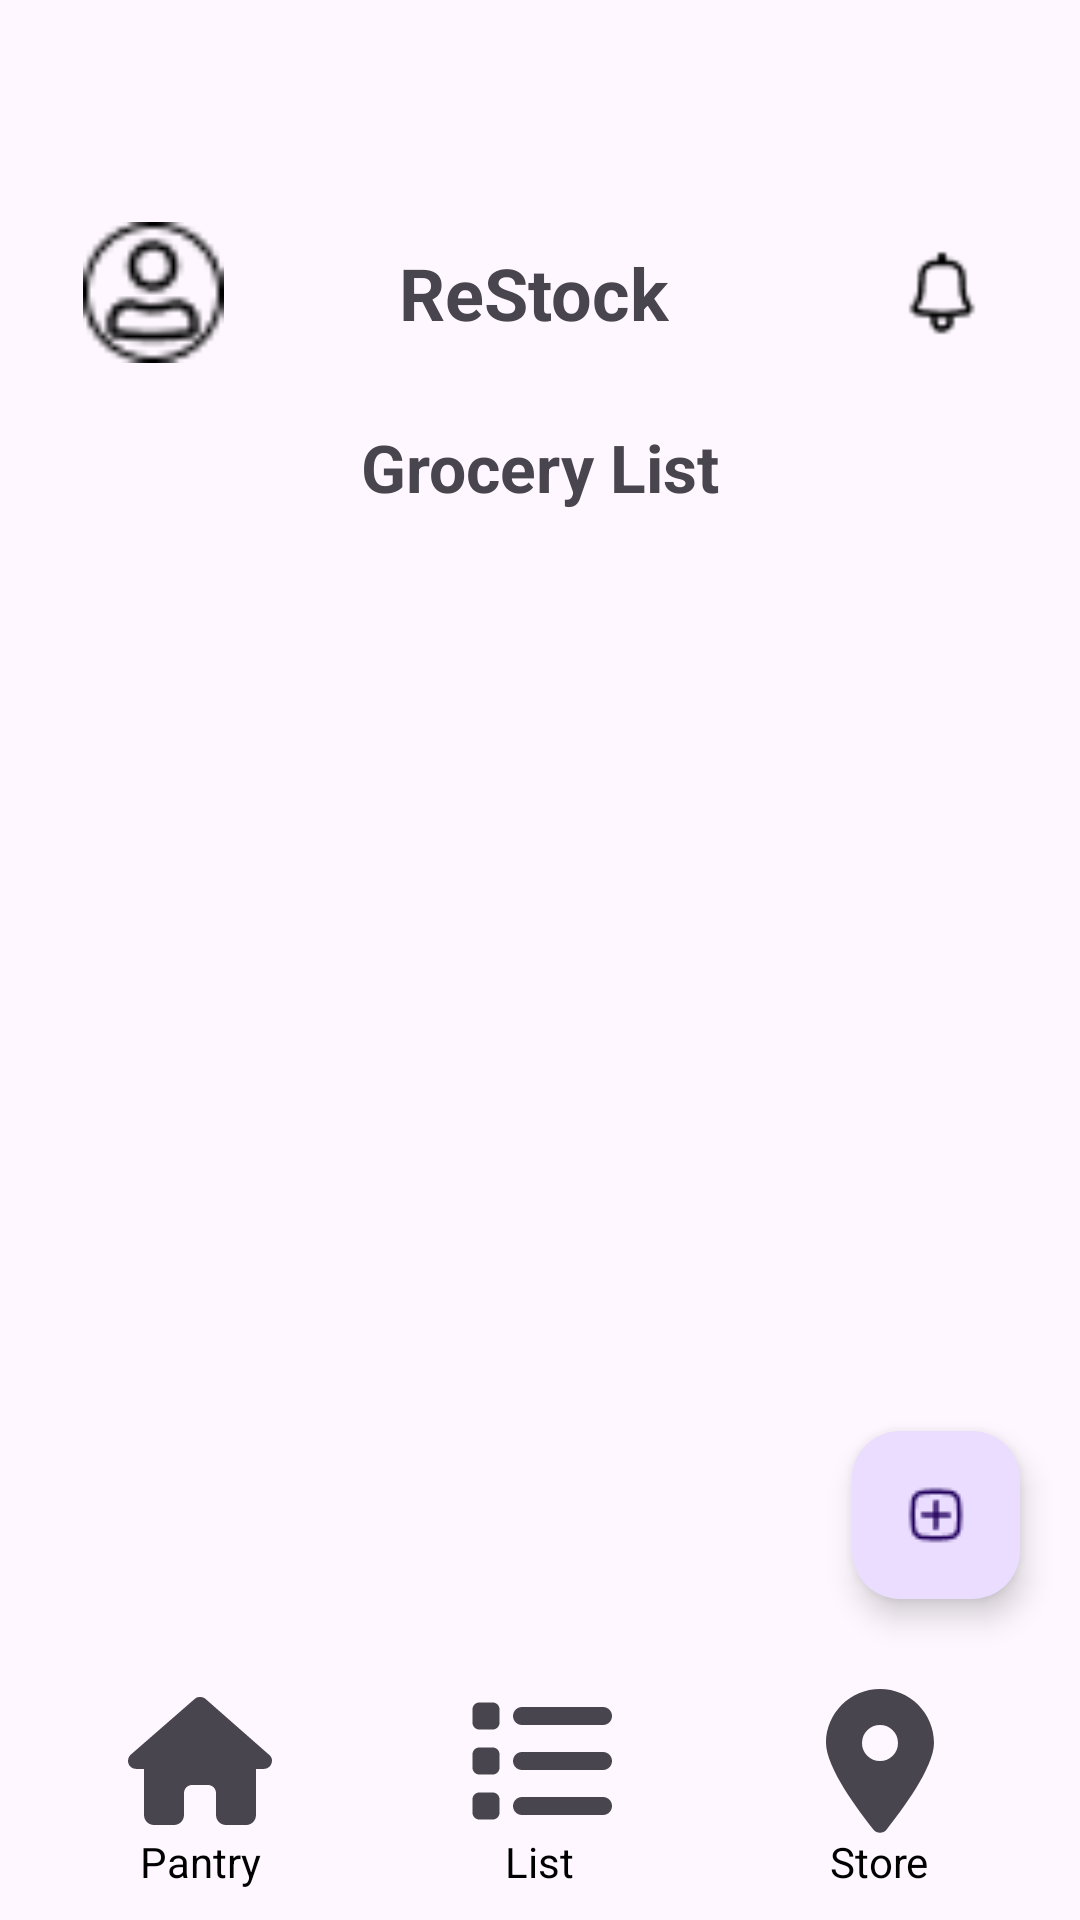

Screen size 1080x1920. Icon name, then its box in pixels as (x1, y1, x2, y2):
Add a new pantry item: (852, 1431, 1020, 1599)
Notifications: (909, 251, 975, 334)
Profile Icon: (83, 222, 224, 363)
